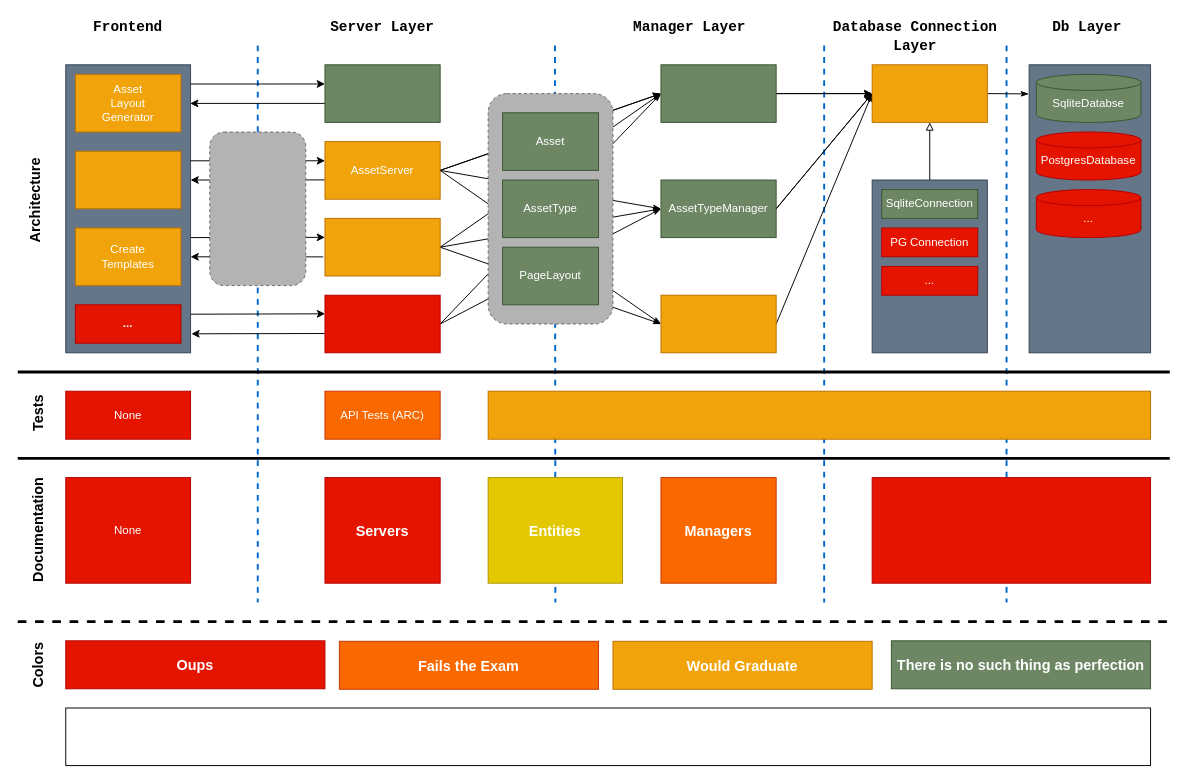
This 1188x782 diagram has some shape labels left out. Each missing label, with the centre of its shape:
"<<DbConnection>>" belongs at (x=929, y=93).
"<<PluginServers>>" belongs at (x=382, y=323).
"AssetManager" belongs at (x=718, y=93).
"AssetType Layout Generator" belongs at (x=127, y=179).
"AssetTypeServer" belongs at (x=382, y=246).
"CommonServer" belongs at (x=382, y=93).
"Communication via POST & GET Requests" belongs at (x=257, y=208).
"Database" belongs at (x=1011, y=530).
"PageManager" belongs at (x=718, y=323).
"Python Unit Tests" belongs at (x=819, y=414).
